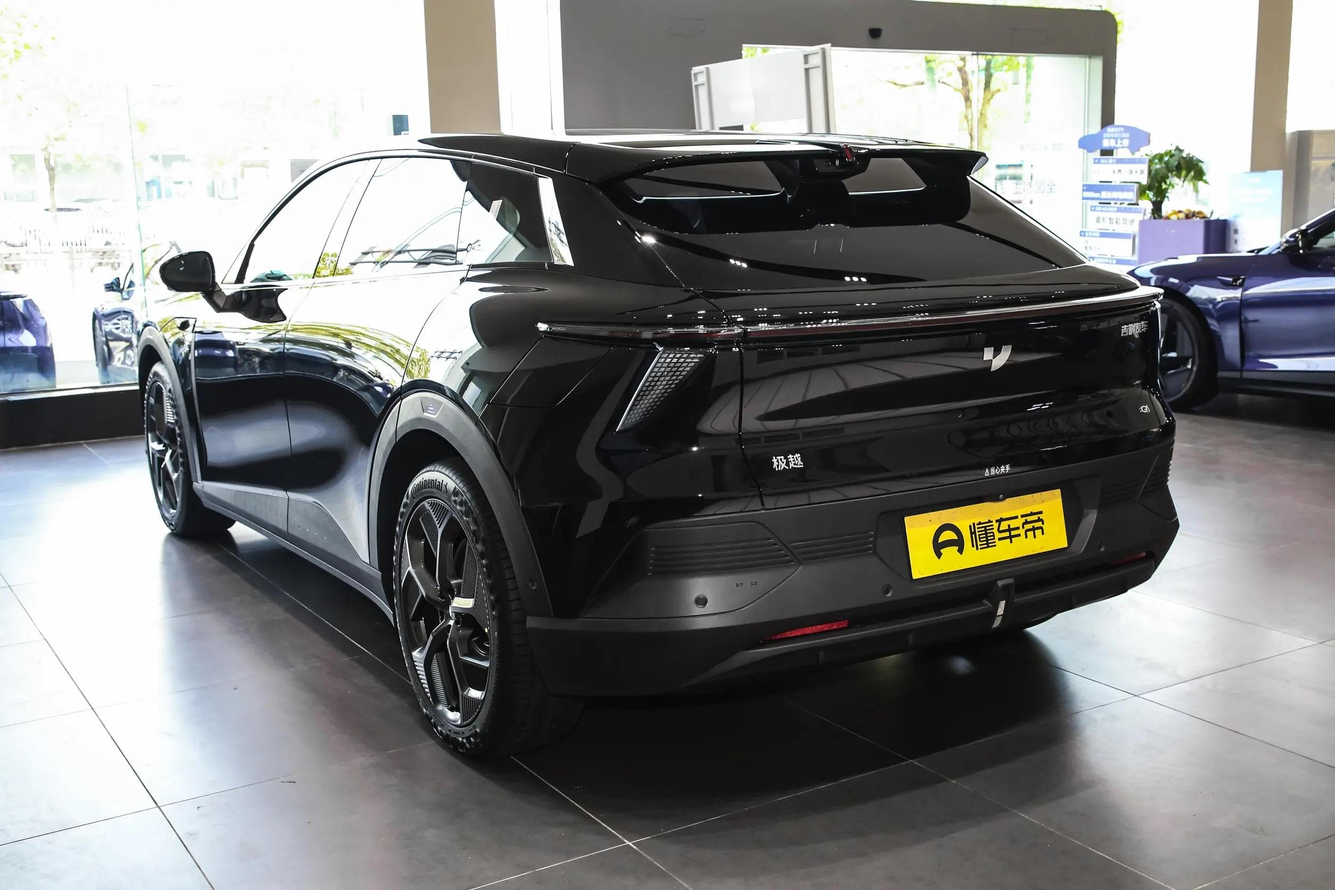JIYUE: (982, 344, 1012, 372)
